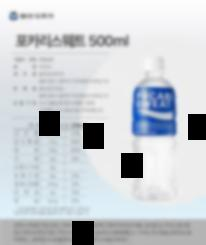pocarisweat: (128, 53, 183, 208)
